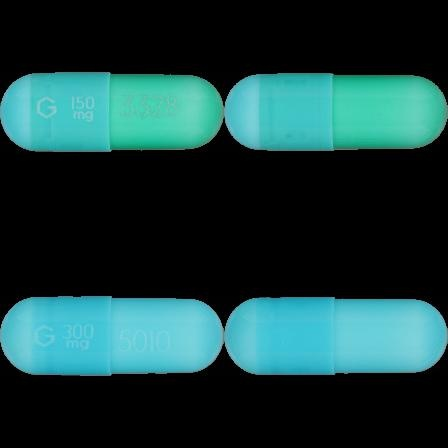0179-0023: (0, 0, 224, 224)
